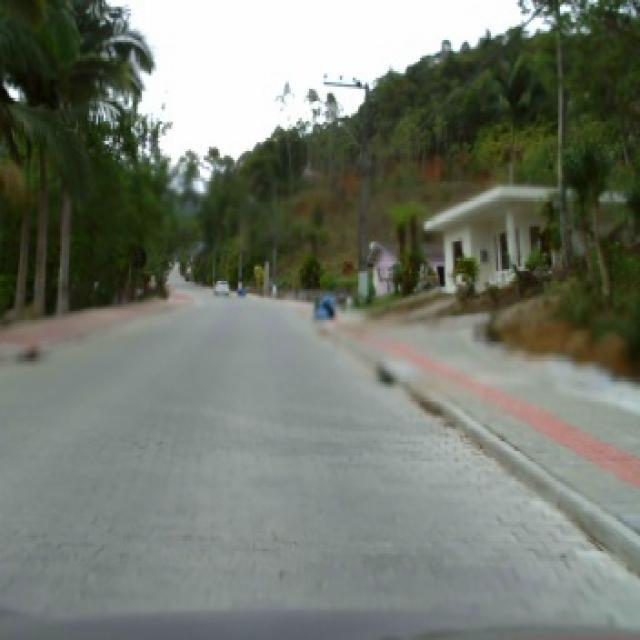Poth-hole: (373, 360, 396, 384), (14, 347, 38, 360)
